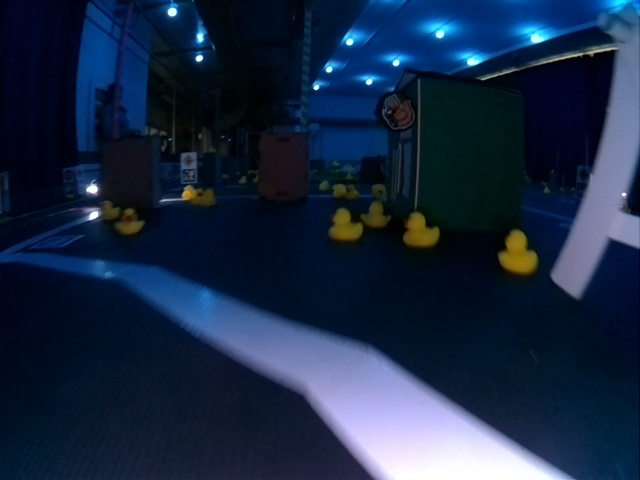Duckie: (498, 231, 531, 273), (403, 212, 438, 247), (328, 209, 361, 241), (115, 209, 145, 234), (362, 202, 391, 227), (100, 201, 119, 219), (199, 189, 216, 205), (371, 184, 387, 198), (332, 184, 346, 197), (346, 185, 359, 198), (183, 185, 196, 198), (319, 180, 329, 191)
Intersection sign: (184, 153, 195, 167)
QR code: (31, 236, 79, 246)
